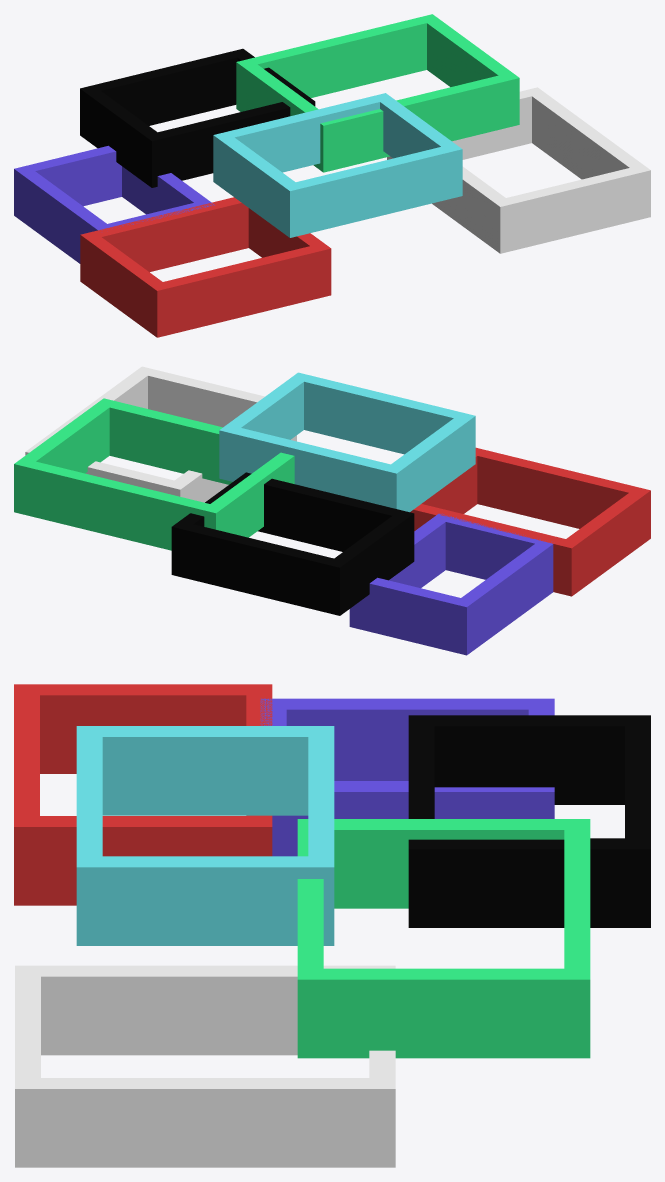
File: pictureframeglb.glb
The picture shows the model from 3 angles, top to bottom: view 1: azimuth 30°, elevation 25°; view 2: azimuth 150°, elevation 25°; view 3: azimuth 270°, elevation 25°; orthographic projection. The views are drawn at different scales.
Visible parts, largest first — view 1: Obj_000001, Obj_000004, Obj_000005, Obj_000003, Obj_000006, Obj_000002; view 2: Obj_000004, Obj_000005, Obj_000006, Obj_000002, Obj_000001, Obj_000003; view 3: Obj_000003, Obj_000005, Obj_000004, Obj_000006, Obj_000001, Obj_000002.
Part boxes in pixels (left/top/right/bottom): Obj_000001: left=80, top=197, right=331, bottom=337; Obj_000004: left=236, top=14, right=519, bottom=172; Obj_000005: left=213, top=93, right=462, bottom=237; Obj_000003: left=387, top=87, right=650, bottom=253; Obj_000006: left=80, top=48, right=315, bottom=187; Obj_000002: left=14, top=145, right=214, bottom=263; Obj_000004: left=14, top=398, right=294, bottom=550; Obj_000005: left=219, top=372, right=475, bottom=512; Obj_000006: left=171, top=472, right=414, bottom=615; Obj_000002: left=349, top=513, right=553, bottom=655; Obj_000001: left=410, top=447, right=650, bottom=596; Obj_000003: left=25, top=366, right=296, bottom=502; Obj_000003: left=15, top=965, right=395, bottom=1167; Obj_000005: left=76, top=726, right=334, bottom=945; Obj_000004: left=297, top=819, right=590, bottom=1058; Obj_000006: left=408, top=715, right=650, bottom=927; Obj_000001: left=14, top=684, right=272, bottom=905; Obj_000002: left=260, top=698, right=554, bottom=856.
Bounding box in the file's own units: 552 × 102 × 367.
